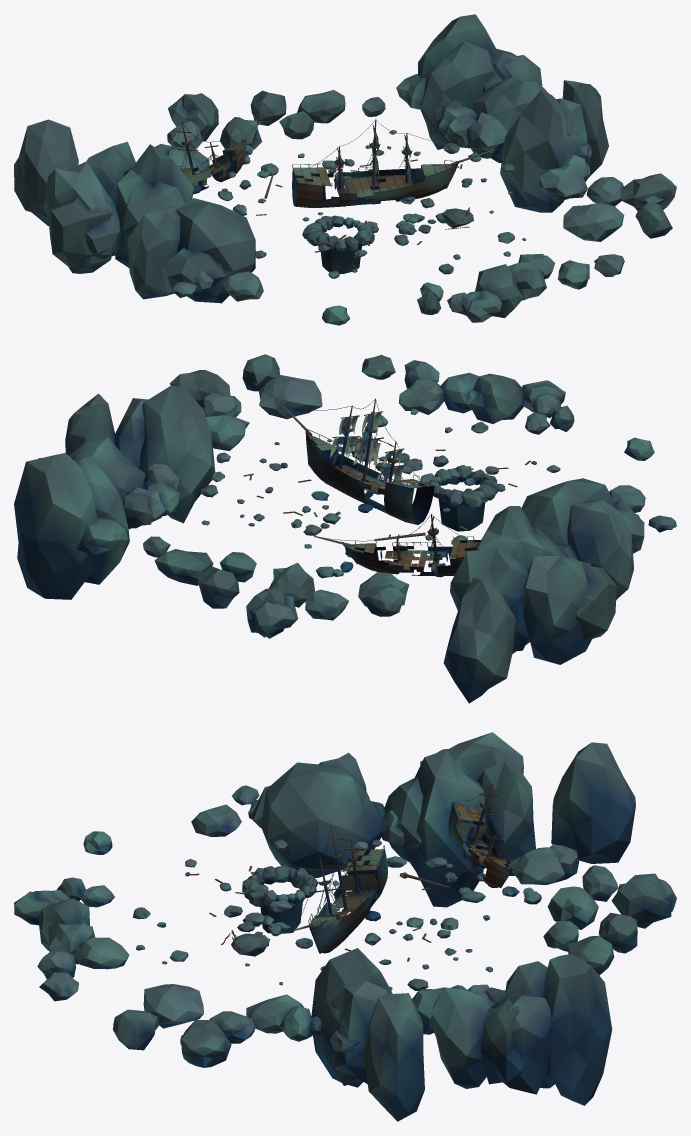
File: wreck.glb
3 renders of one model, top to bottom at view 1: azimuth 30°, elevation 25°; view 2: azimuth 150°, elevation 25°; view 3: azimuth 270°, elevation 25°, orthographic. The views are drawn at different scales.
Visible parts, largest first — view 1: rock_3_5, rock_6_5, rock_5_5, rock_4_5, rock_6_6, rock_3_6, rock_5_6, rock_4_6, rock_6_4, rock_5_4, rock_4_4, rock_3_4 (+2 smaller); view 2: rock_3_6, rock_3_5, rock_6_6, rock_6_5, rock_5_5, rock_4_6, rock_5_6, rock_4_5, rock_5_4, rock_4_4, rock_6_4, rock_4_3 (+2 smaller); view 3: rock_4_5, rock_6_5, rock_6_6, rock_3_6, rock_4_6, rock_3_5, rock_6_4, rock_5_4, rock_5_5, rock_4_4, rock_5_6, rock_5_3 (+2 smaller).
Part boxes in pixels (x1=…): rock_3_5: x1=48, y1=144, x2=242, y2=303; rock_6_5: x1=469, y1=77, x2=608, y2=212; rock_5_5: x1=322, y1=109, x2=556, y2=222; rock_4_5: x1=170, y1=128, x2=378, y2=272; rock_6_6: x1=417, y1=14, x2=542, y2=149; rock_3_6: x1=14, y1=119, x2=135, y2=226; rock_5_6: x1=250, y1=54, x2=463, y2=155; rock_4_6: x1=155, y1=93, x2=304, y2=186; rock_6_4: x1=556, y1=170, x2=676, y2=240; rock_5_4: x1=399, y1=178, x2=613, y2=300; rock_4_4: x1=233, y1=223, x2=490, y2=325; rock_3_4: x1=172, y1=241, x2=263, y2=301; rock_3_6: x1=443, y1=548, x2=593, y2=703; rock_3_5: x1=477, y1=478, x2=644, y2=664; rock_6_6: x1=14, y1=453, x2=143, y2=599; rock_6_5: x1=65, y1=385, x2=236, y2=529; rock_5_5: x1=138, y1=398, x2=409, y2=535; rock_4_6: x1=246, y1=514, x2=463, y2=638; rock_5_6: x1=77, y1=484, x2=305, y2=608; rock_4_5: x1=358, y1=411, x2=566, y2=577; rock_5_4: x1=235, y1=359, x2=509, y2=472; rock_4_4: x1=408, y1=381, x2=654, y2=493; rock_6_4: x1=170, y1=354, x2=289, y2=424; rock_4_3: x1=504, y1=380, x2=574, y2=419; rock_4_5: x1=265, y1=771, x2=486, y2=933; rock_6_5: x1=263, y1=948, x2=483, y2=1121; rock_6_6: x1=476, y1=954, x2=612, y2=1105; rock_3_6: x1=473, y1=732, x2=635, y2=875; rock_4_6: x1=469, y1=779, x2=676, y2=929; rock_3_5: x1=265, y1=732, x2=492, y2=906; rock_6_4: x1=113, y1=986, x2=276, y2=1067; rock_5_4: x1=56, y1=898, x2=271, y2=1004; rock_5_5: x1=270, y1=824, x2=479, y2=998; rock_4_4: x1=61, y1=808, x2=273, y2=932; rock_5_6: x1=473, y1=912, x2=637, y2=997; rock_5_3: x1=37, y1=902, x2=70, y2=1001.
Bounding box in the file's own units: 157 × 45.12 × 150.
